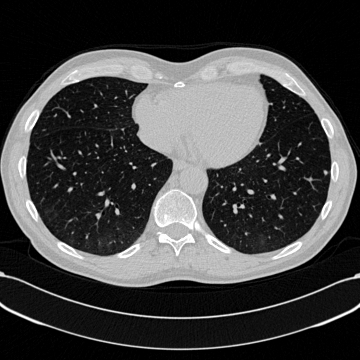nodule: (323, 170, 327, 174)
